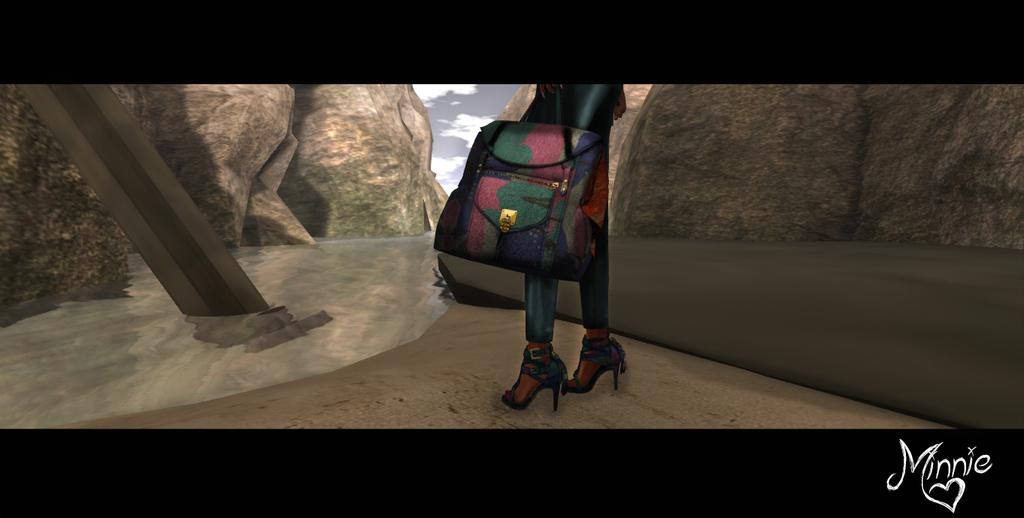Luggage-and-bags: (442, 111, 618, 268)
